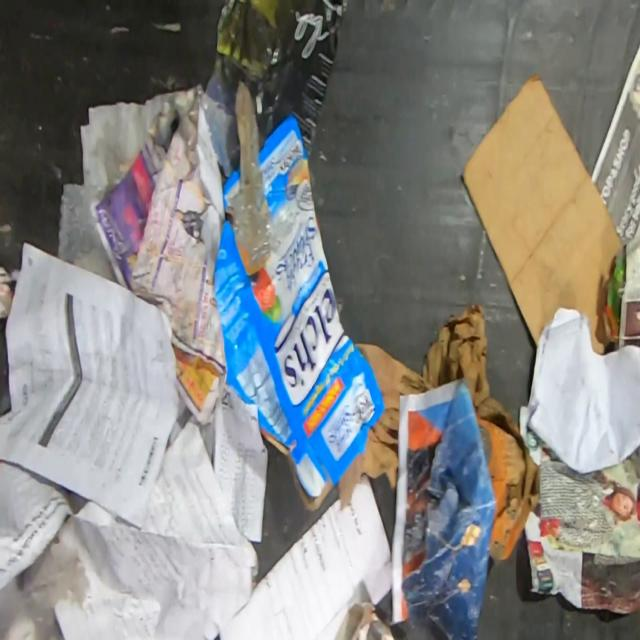cardboard: (212, 109, 388, 513), (462, 69, 624, 354), (474, 395, 540, 561)
soft_plastic: (226, 79, 271, 269), (56, 181, 118, 284)
